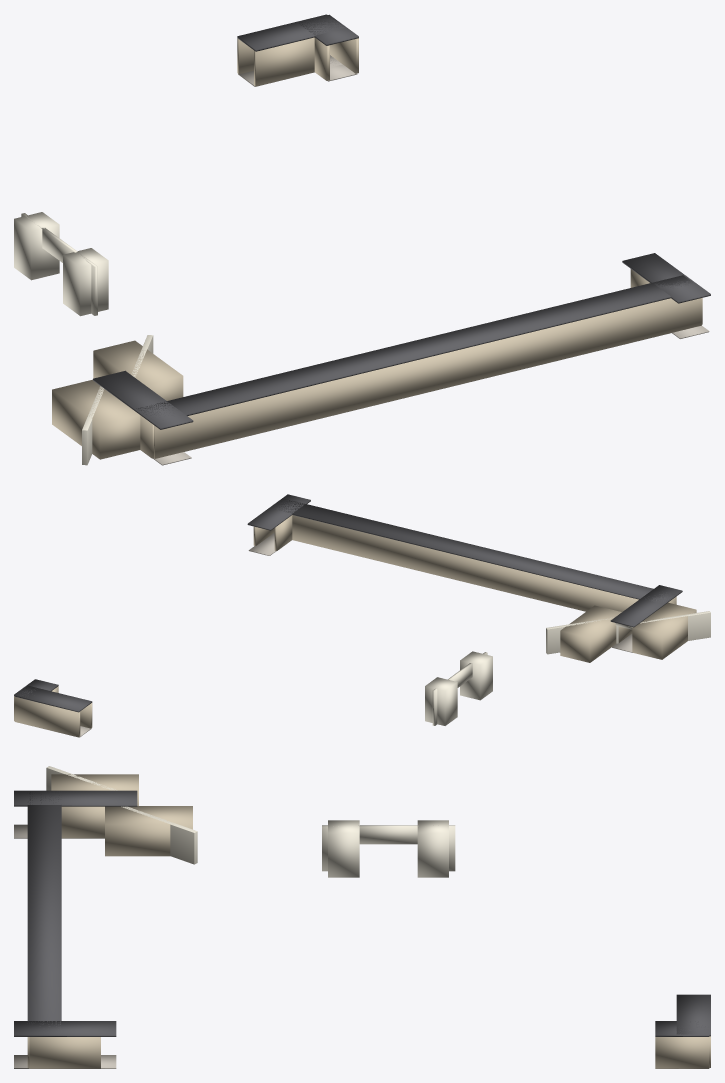
File: collegamenti.glb
3 renders of one model, top to bottom at view 1: azimuth 30°, elevation 25°; view 2: azimuth 150°, elevation 25°; view 3: azimuth 270°, elevation 25°, orthographic. The views are drawn at different scales.
Parts seen in each view (by area): view 1: fS_o_bot, fS_roof_bot, COL_fS_gw_wing_-1, COL_fS_gw_wing_1, main_tappo_39, fS_roof_ent, main_tappo_-63, srv_i_eo, srv_roof_eo, fS_roof_gal, srv_roof_ns, srv_o_ns; view 2: fS_i_bot, fS_roof_bot, COL_fS_gw_wing_1, COL_fS_gw_wing_-1, srv_o_eo, main_tappo_-63, main_tappo_39, fS_roof_ent, fS_roof_gal, srv_roof_eo, fS_gw_wing_-1, fS_gw_wing_1 (+1 smaller); view 3: fS_roof_bot, COL_fS_gw_wing_1, fS_o_gal, fS_roof_ent, main_tappo_-63, main_tappo_39, srv_o_ns, fS_roof_gal, COL_fS_gw_wing_-1, fS_i_ent, srv_roof_eo, main_jz_cap_arch (+2 smaller).
Part boxes in pixels (x1,y1,x2,y2): fS_o_bot: (154,298,701,458); fS_roof_bot: (136,275,694,415); COL_fS_gw_wing_-1: (52,379,140,459); COL_fS_gw_wing_1: (93,340,183,400); main_tappo_39: (63,248,108,316); fS_roof_ent: (93,370,193,429); main_tappo_-63: (14,212,59,280); srv_i_eo: (254,37,314,86); srv_roof_eo: (237,14,345,51); fS_roof_gal: (622,253,710,303); srv_roof_ns: (299,14,358,45); srv_o_ns: (330,38,358,73); fS_i_bot: (292,515,638,611); fS_roof_bot: (273,499,675,603); COL_fS_gw_wing_1: (560,605,621,662); COL_fS_gw_wing_-1: (632,602,696,659); srv_o_eo: (14,697,80,737); main_tappo_-63: (425,677,457,725); main_tappo_39: (460,651,492,700); fS_roof_ent: (610,585,682,627); fS_roof_gal: (247,494,310,530); srv_roof_eo: (14,685,92,712); fS_gw_wing_-1: (640,611,710,640); fS_gw_wing_1: (546,617,618,654); fS_roof_bot: (27,791,61,1026); COL_fS_gw_wing_1: (105,806,192,856); fS_o_gal: (29,1037,100,1068); fS_roof_ent: (14,790,137,806); main_tappo_-63: (417,820,448,877); main_tappo_39: (328,820,359,877); srv_o_ns: (655,1037,709,1068); fS_roof_gal: (14,1021,116,1036); COL_fS_gw_wing_-1: (51,774,138,805); fS_i_ent: (61,806,104,838); srv_roof_eo: (676,994,710,1036); main_jz_cap_arch: (359,825,417,844).
Bounding box in the file's own units: 73.08 × 5.72 × 79.45.
